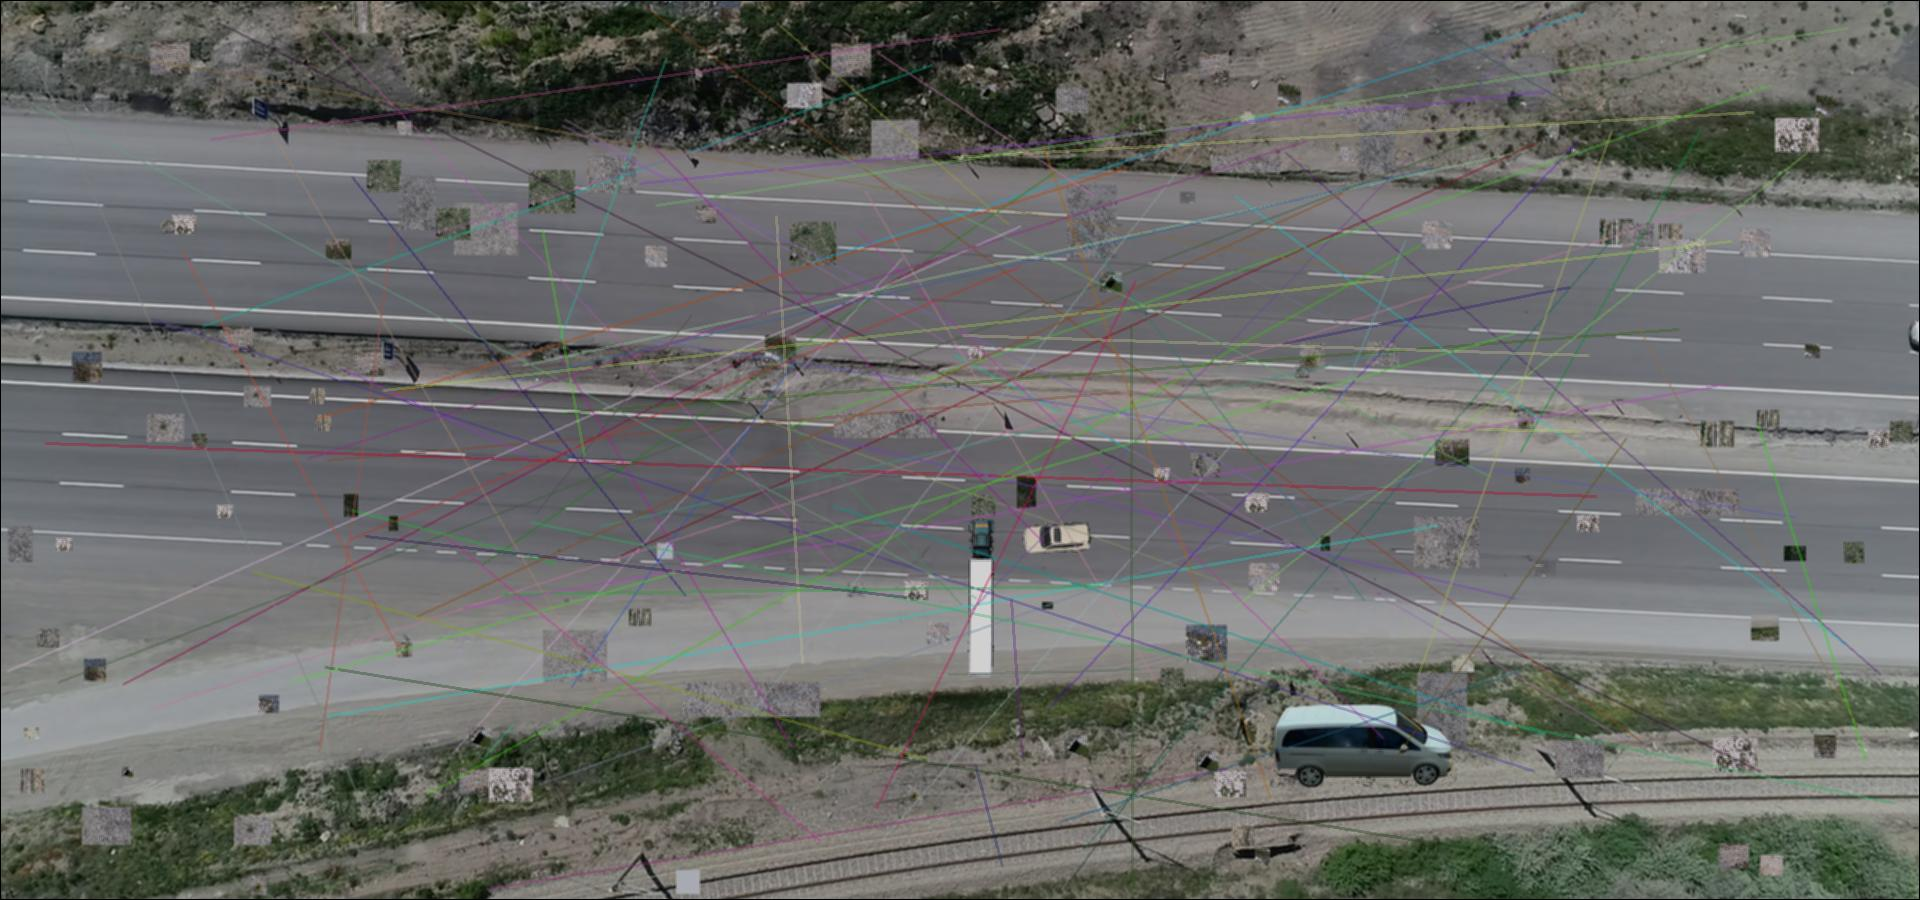arac: (1270, 705, 1457, 787), (962, 518, 1000, 680), (1020, 520, 1092, 553)
